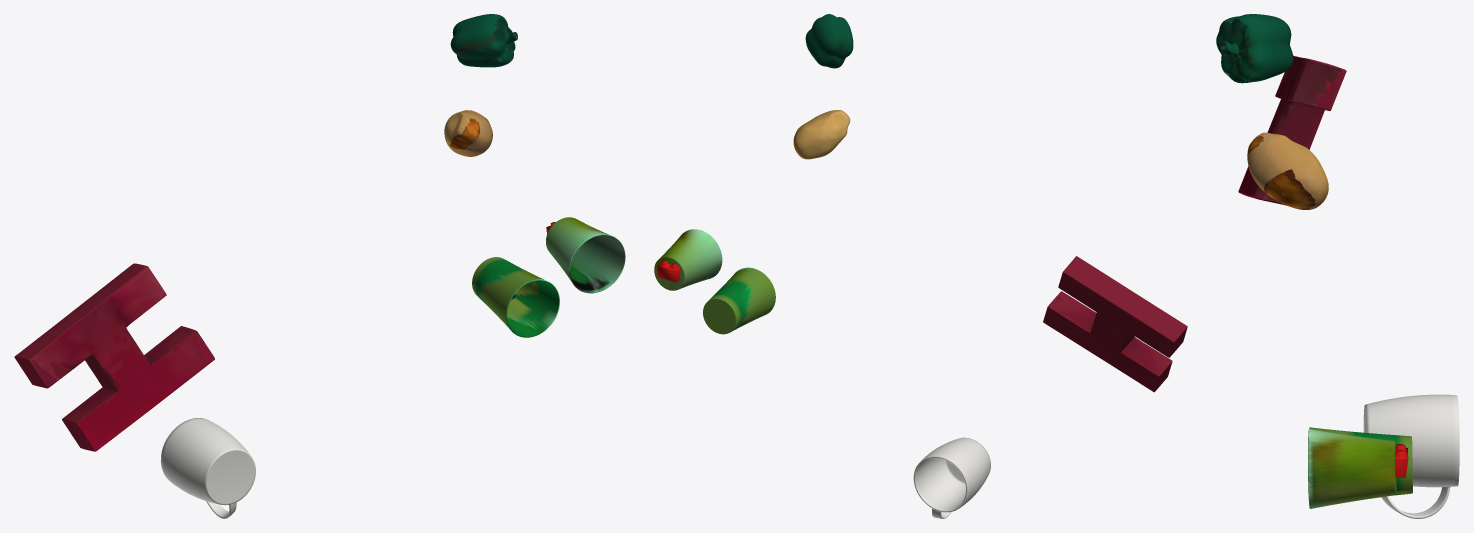
The model's file is props-5.glb.
3 views of the same model, side by side, from view 1: azimuth 30°, elevation 25°; view 2: azimuth 150°, elevation 25°; view 3: azimuth 270°, elevation 25° (orthographic). The views are drawn at different scales.
Parts seen in each view (by area): view 1: part0_photo1_024, geometry_0_092, part0_fallback_026, part0_fallback_027, geometry_0_105, part0_fallback_013, part0_fallback_029; view 2: part0_fallback_026, geometry_0_092, part0_fallback_027, geometry_0_105, part0_fallback_029, part0_fallback_013; view 3: geometry_0_092, geometry_0_105, part0_fallback_013, part0_fallback_029, part0_fallback_026, part0_photo0_026, part0_photo1_026, part0_photo1_024, part0_fallback_027, part0_photo2_006, part0_photo0_013, geometry_0_118.
Part boxes in pixels (x1,y1,x2,y2): part0_photo1_024: (32, 267, 214, 451); geometry_0_092: (160, 418, 255, 518); part0_fallback_026: (14, 263, 196, 451); part0_fallback_027: (472, 257, 559, 336); geometry_0_105: (546, 217, 625, 293); part0_fallback_013: (444, 110, 492, 156); part0_fallback_029: (450, 14, 515, 63); part0_fallback_026: (1043, 256, 1187, 392); geometry_0_092: (913, 437, 990, 518); part0_fallback_027: (703, 267, 775, 334); geometry_0_105: (654, 229, 722, 290); part0_fallback_029: (805, 14, 853, 68); part0_fallback_013: (793, 110, 850, 159); geometry_0_092: (1363, 394, 1459, 518); geometry_0_105: (1308, 429, 1396, 508); part0_fallback_013: (1247, 132, 1328, 209); part0_fallback_029: (1222, 14, 1293, 81); part0_fallback_026: (1275, 55, 1346, 149); part0_photo0_026: (1254, 60, 1341, 204); part0_photo1_026: (1216, 19, 1257, 81); part0_photo1_024: (1238, 56, 1324, 205); part0_fallback_027: (1309, 427, 1412, 495); part0_photo2_006: (1256, 136, 1315, 208); part0_photo0_013: (1247, 136, 1300, 207); geometry_0_118: (1395, 444, 1408, 477).
Bounding box in the file's own units: 0.8364 × 0.6621 × 0.2333.
